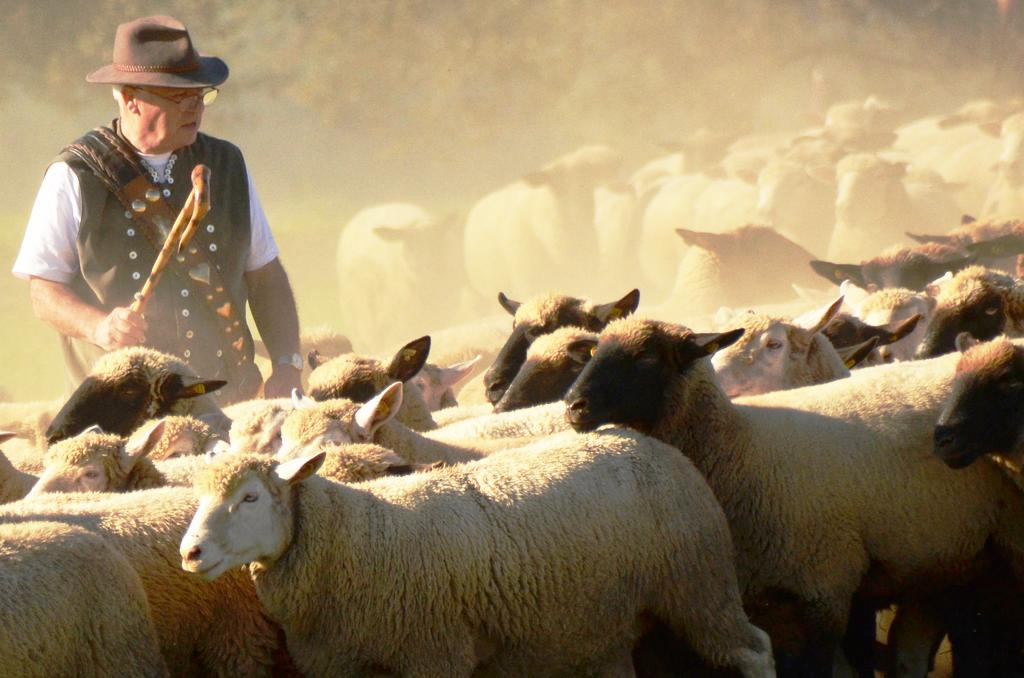Sheep: (558, 324, 1021, 676), (178, 424, 750, 677), (0, 483, 264, 678), (43, 344, 331, 476), (697, 297, 945, 438), (278, 383, 550, 498), (301, 335, 582, 442), (930, 319, 1024, 631), (23, 422, 294, 526), (0, 503, 153, 678), (464, 158, 611, 322), (630, 222, 841, 332), (481, 291, 691, 398), (328, 203, 461, 370), (809, 222, 1004, 322), (483, 324, 664, 425), (831, 268, 961, 388), (833, 148, 961, 262), (625, 124, 749, 217), (919, 265, 1024, 374), (746, 151, 831, 262), (969, 110, 1024, 246)
